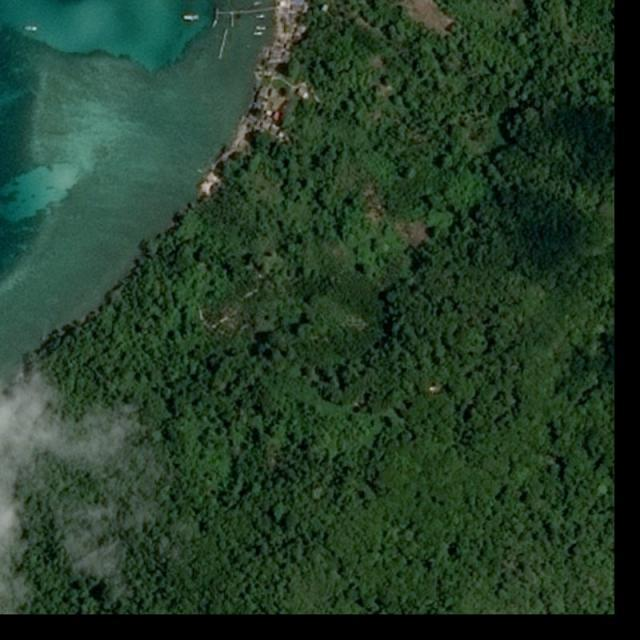ship: (184, 14, 198, 22), (24, 25, 37, 33), (257, 26, 268, 32), (254, 32, 262, 38), (257, 15, 266, 20), (254, 2, 261, 7)
